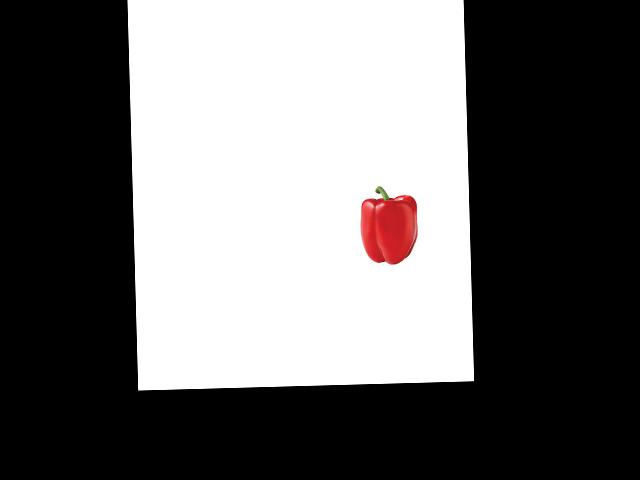bell_pepper: (356, 185, 422, 267)
